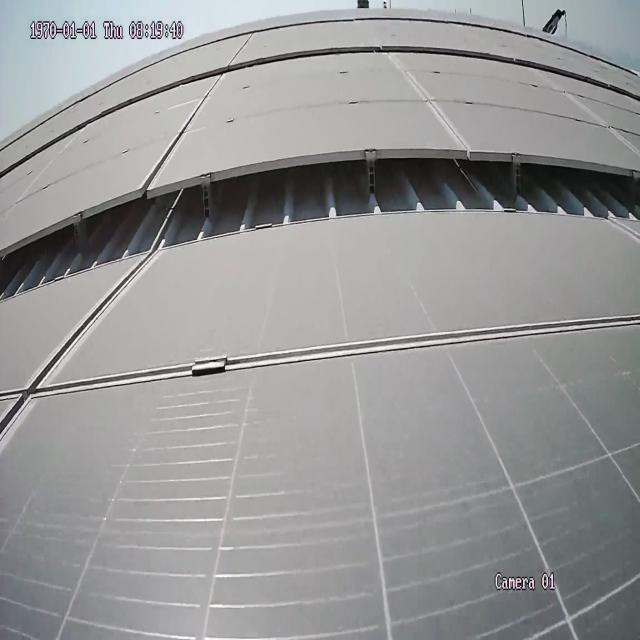interior panel: (1, 257, 636, 444), (136, 77, 227, 178), (385, 58, 470, 146)
outher panel: (2, 146, 639, 303)
